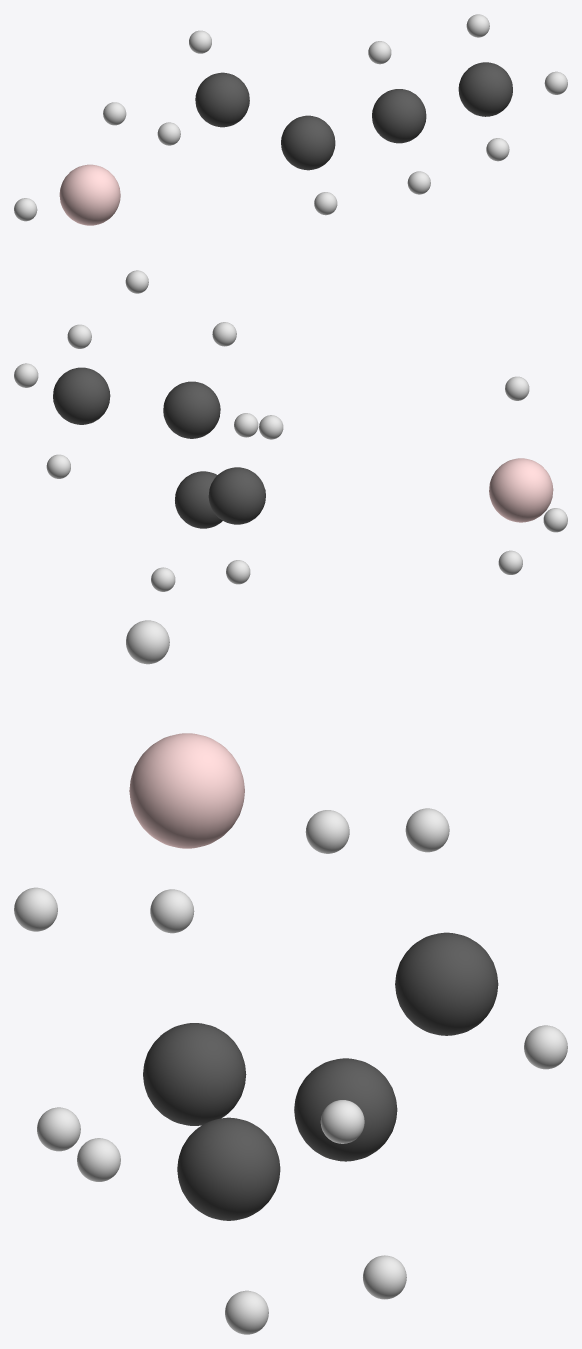
File: AdE_Hydroboration.fbx
3 views of the same model, one above another, from view 1: azimuth 30°, elevation 25°; view 2: azimuth 150°, elevation 25°; view 3: azimuth 270°, elevation 25° (orthographic). The views are drawn at different scales.
Visible parts, largest first — view 1: B13, C02, C09, C05, C01, H15, H06, H10, H16, H12, H04, H03 (+4 smaller); view 2: B13, C02, C09, C05, C01, H08, H15, H16, H04, H06, H11, H07 (+4 smaller); view 3: B13, C02, C09, C05, C01, H03, H11, H07, H08, H06, H12, H10 (+4 smaller).
Boxes of the visible parts, x1=… form: B13: x1=59, y1=164, x2=120, y2=225; C02: x1=195, y1=72, x2=249, y2=127; C09: x1=458, y1=62, x2=512, y2=116; C05: x1=372, y1=89, x2=426, y2=143; C01: x1=281, y1=115, x2=335, y2=170; H15: x1=103, y1=102, x2=126, y2=125; H06: x1=407, y1=171, x2=430, y2=194; H10: x1=466, y1=14, x2=489, y2=37; H16: x1=125, y1=270, x2=148, y2=293; H12: x1=486, y1=138, x2=509, y2=161; H04: x1=157, y1=122, x2=180, y2=145; H03: x1=189, y1=30, x2=211, y2=53; B13: x1=489, y1=458, x2=553, y2=522; C02: x1=208, y1=467, x2=265, y2=524; C09: x1=53, y1=367, x2=110, y2=424; C05: x1=163, y1=381, x2=220, y2=438; C01: x1=175, y1=471, x2=222, y2=528; H08: x1=151, y1=567, x2=175, y2=591; H15: x1=505, y1=376, x2=529, y2=400; H16: x1=543, y1=508, x2=567, y2=532; H04: x1=226, y1=560, x2=250, y2=584; H06: x1=234, y1=413, x2=258, y2=437; H11: x1=67, y1=324, x2=91, y2=348; H07: x1=212, y1=322, x2=236, y2=346; B13: x1=129, y1=733, x2=244, y2=848; C02: x1=395, y1=932, x2=498, y2=1035; C09: x1=177, y1=1117, x2=280, y2=1220; C05: x1=143, y1=1023, x2=246, y2=1125; C01: x1=294, y1=1058, x2=397, y2=1161; H03: x1=405, y1=808, x2=449, y2=852; H11: x1=77, y1=1138, x2=120, y2=1181; H07: x1=150, y1=889, x2=194, y2=933; H08: x1=363, y1=1255, x2=406, y2=1299; H06: x1=37, y1=1107, x2=80, y2=1151; H12: x1=225, y1=1290, x2=268, y2=1334; H10: x1=320, y1=1100, x2=364, y2=1143.
Bounding box in the file's own units: 777 × 339 × 402.
